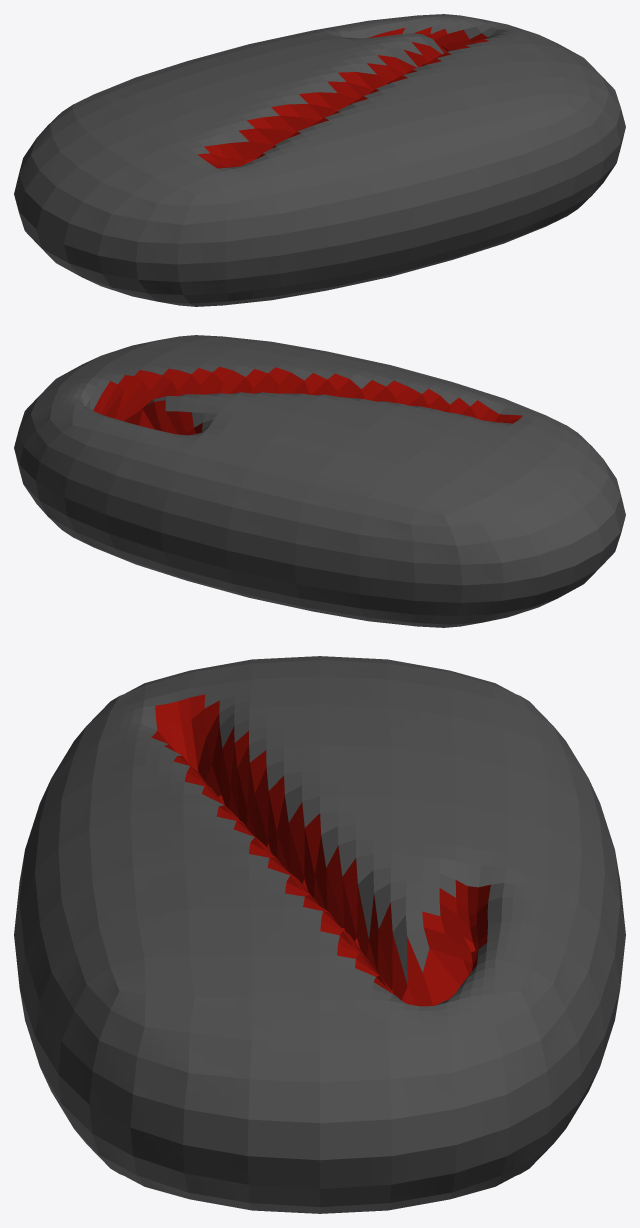
File: Sigil_P.fbx
3 renders of one model, top to bottom at view 1: azimuth 30°, elevation 25°; view 2: azimuth 150°, elevation 25°; view 3: azimuth 270°, elevation 25°, orthographic. The views are drawn at different scales.
Parts seen in each view (by area): view 1: Sigil_P; view 2: Sigil_P; view 3: Sigil_P.
Part boxes in pixels (x1,y1,x2,y2): Sigil_P: [14, 14, 625, 306]; Sigil_P: [14, 335, 625, 627]; Sigil_P: [14, 656, 625, 1213].
Bounding box in the file's own units: 59.86 × 17.24 × 34.36.
